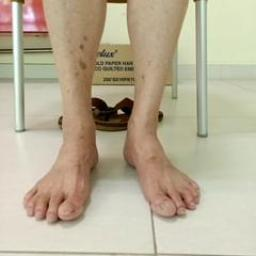Front View -Both Feet-: (13, 101, 216, 239)
